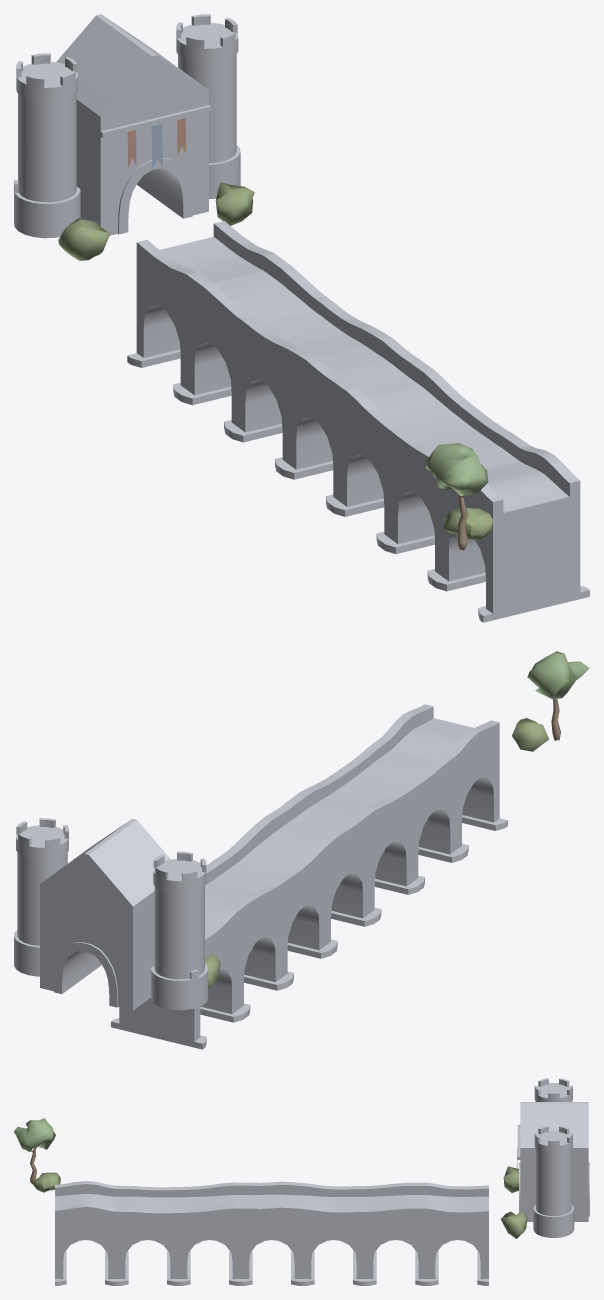
The model's file is Castle_Track.fbx.
The picture shows the model from 3 angles, top to bottom: view 1: azimuth 30°, elevation 25°; view 2: azimuth 150°, elevation 25°; view 3: azimuth 270°, elevation 25°; orthographic projection. The views are drawn at different scales.
Parts seen in each view (by area): view 1: Bridge_1, Arch, Tower_L, Tower_R, Tree_1_Leaves, Bush_2, Bush_3, Bush_1; view 2: Bridge_1, Arch, Tower_L, Tower_R, Tree_1_Leaves, Bush_1; view 3: Bridge_1, Arch, Tower_R, Tree_1_Leaves, Tower_L, Bush_3, Bush_1, Bush_2.
Part boxes in pixels (<box>): Bridge_1: <box>127,221,589,622</box>; Arch: <box>56,14,211,235</box>; Tower_L: <box>14,53,80,238</box>; Tower_R: <box>176,14,240,198</box>; Tree_1_Leaves: <box>425,443,488,495</box>; Bush_2: <box>58,218,110,260</box>; Bush_3: <box>215,182,254,225</box>; Bush_1: <box>444,507,492,540</box>; Bridge_1: <box>111,704,507,1049</box>; Arch: <box>40,818,170,1010</box>; Tower_L: <box>151,851,208,1010</box>; Tower_R: <box>14,818,68,976</box>; Tree_1_Leaves: <box>527,651,589,699</box>; Bush_1: <box>512,718,549,751</box>; Bridge_1: <box>55,1181,488,1285</box>; Arch: <box>517,1102,589,1221</box>; Tower_R: <box>533,1125,574,1237</box>; Tree_1_Leaves: <box>14,1118,55,1152</box>; Tower_L: <box>534,1078,572,1101</box>; Bush_3: <box>501,1211,527,1238</box>; Bush_1: <box>33,1172,60,1192</box>; Bush_2: <box>503,1166,518,1192</box>.
Size of the model in its own units: 27.78 by 32.08 by 100.
